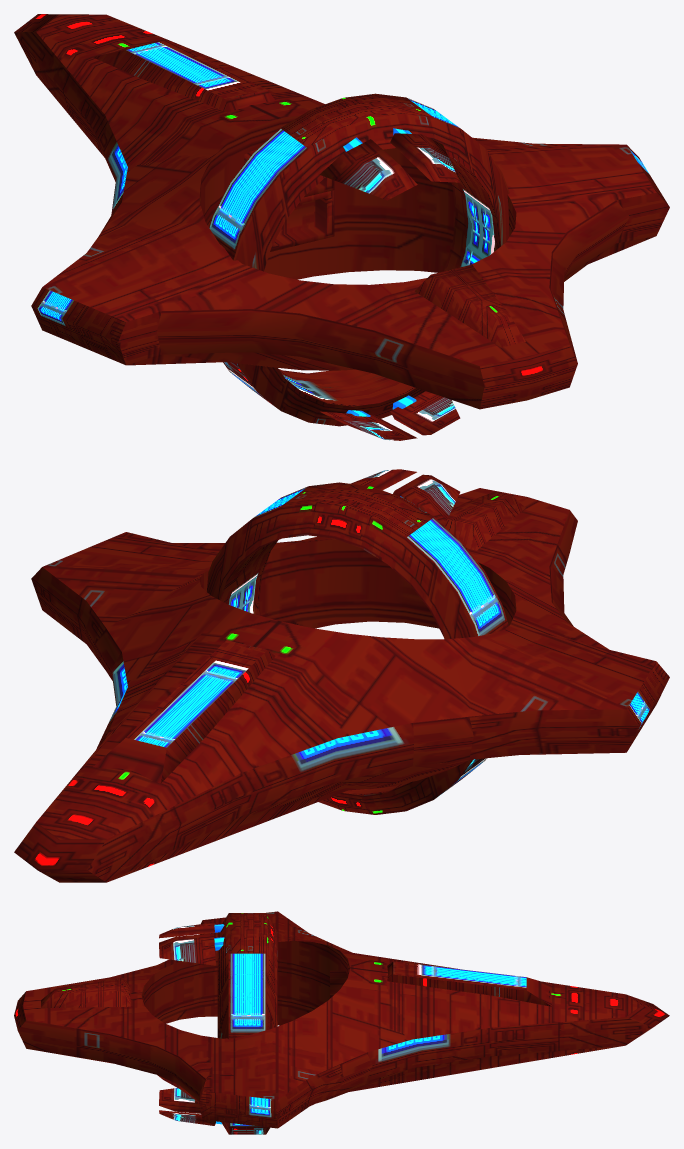
The model's file is Vul_Tran.fbx.
3 renders of one model, top to bottom at view 1: azimuth 30°, elevation 25°; view 2: azimuth 150°, elevation 25°; view 3: azimuth 270°, elevation 25°, orthographic. The views are drawn at different scales.
Parts seen in each view (by area): view 1: Vul_Tran; view 2: Vul_Tran; view 3: Vul_Tran.
Boxes of the visible parts, bbox=[...] form: Vul_Tran: bbox=[14, 14, 669, 440]; Vul_Tran: bbox=[14, 469, 669, 882]; Vul_Tran: bbox=[14, 911, 669, 1134].
Size of the model in its own units: 555 by 265 by 784.
1 material, 1 textured.
